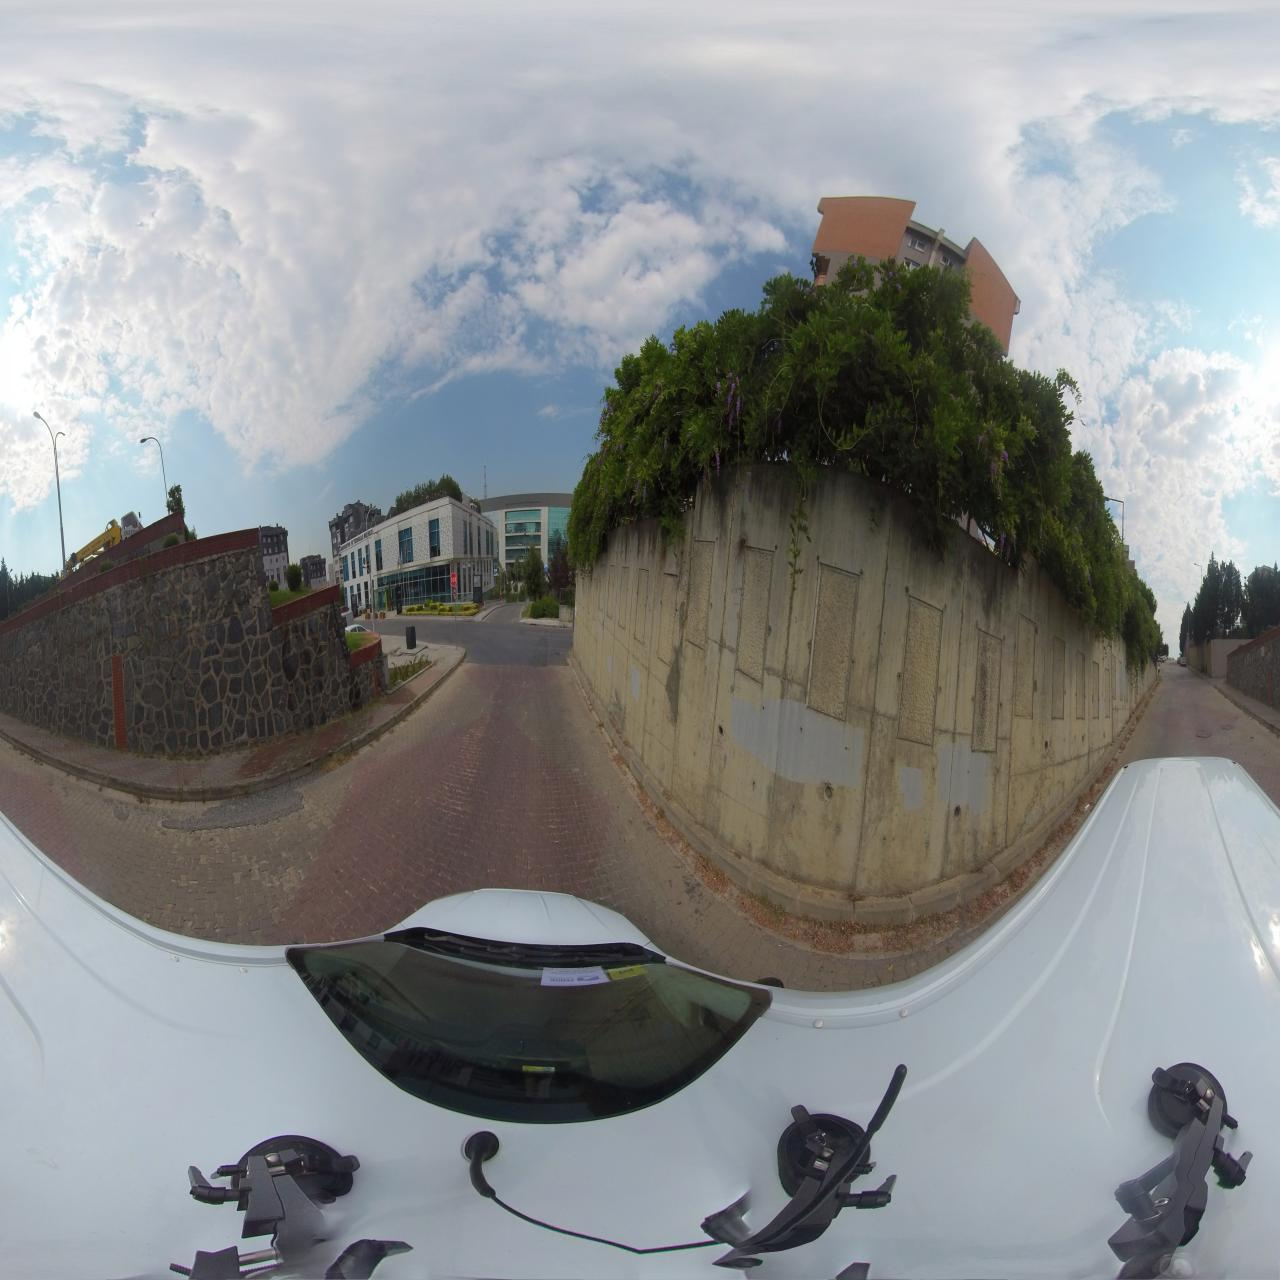SignStore: (341, 527, 374, 552)
